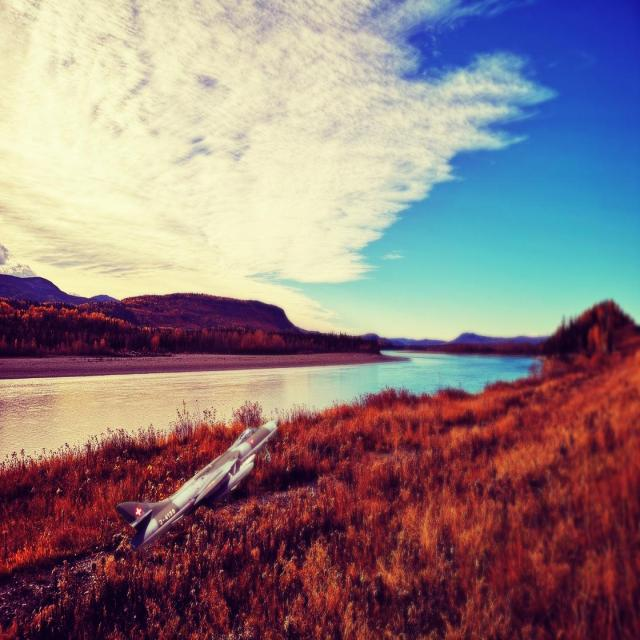airplane: (115, 419, 279, 551)
